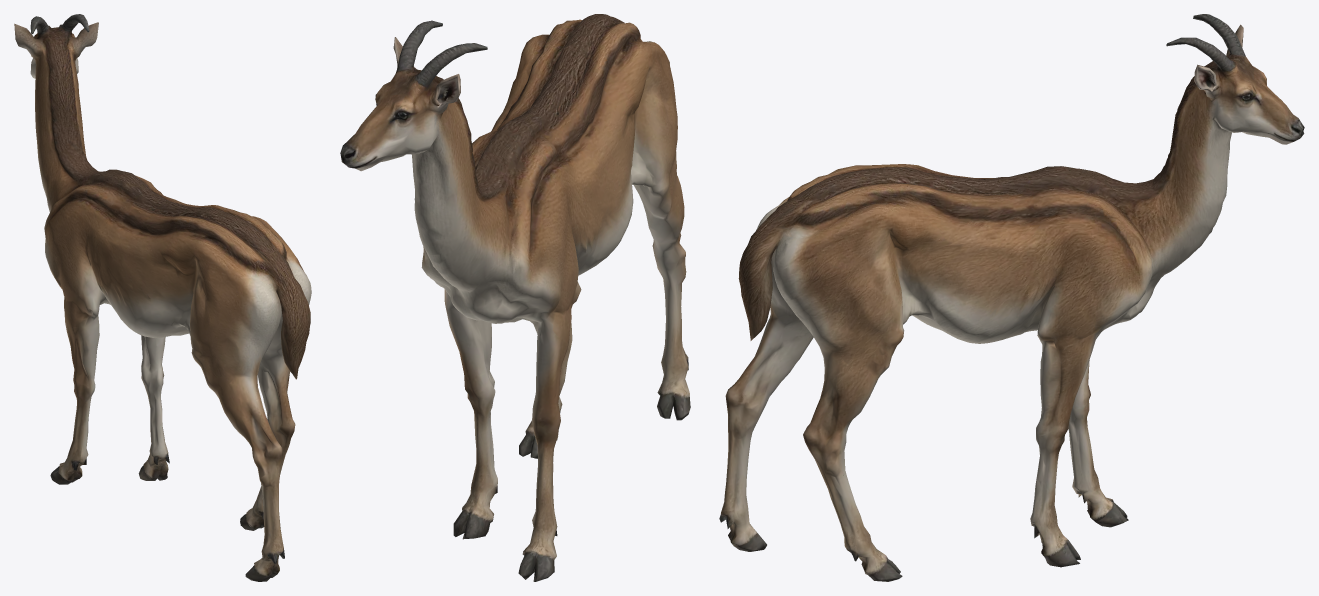
The model's file is grazer.glb.
3 views of the same model, side by side, from view 1: azimuth 30°, elevation 25°; view 2: azimuth 150°, elevation 25°; view 3: azimuth 270°, elevation 25° (orthographic). The views are drawn at different scales.
Parts seen in each view (by area): view 1: tripo_node_b2634ed7-ba68-4b75-8ce0-5979bab11e6e; view 2: tripo_node_b2634ed7-ba68-4b75-8ce0-5979bab11e6e; view 3: tripo_node_b2634ed7-ba68-4b75-8ce0-5979bab11e6e.
Part boxes in pixels (x1,y1,x2,y2): tripo_node_b2634ed7-ba68-4b75-8ce0-5979bab11e6e: (14, 14, 311, 581); tripo_node_b2634ed7-ba68-4b75-8ce0-5979bab11e6e: (340, 14, 690, 581); tripo_node_b2634ed7-ba68-4b75-8ce0-5979bab11e6e: (719, 14, 1304, 581).
Bounding box in the file's own units: 0.3162 × 0.9687 × 1.
1 material, 1 textured.
